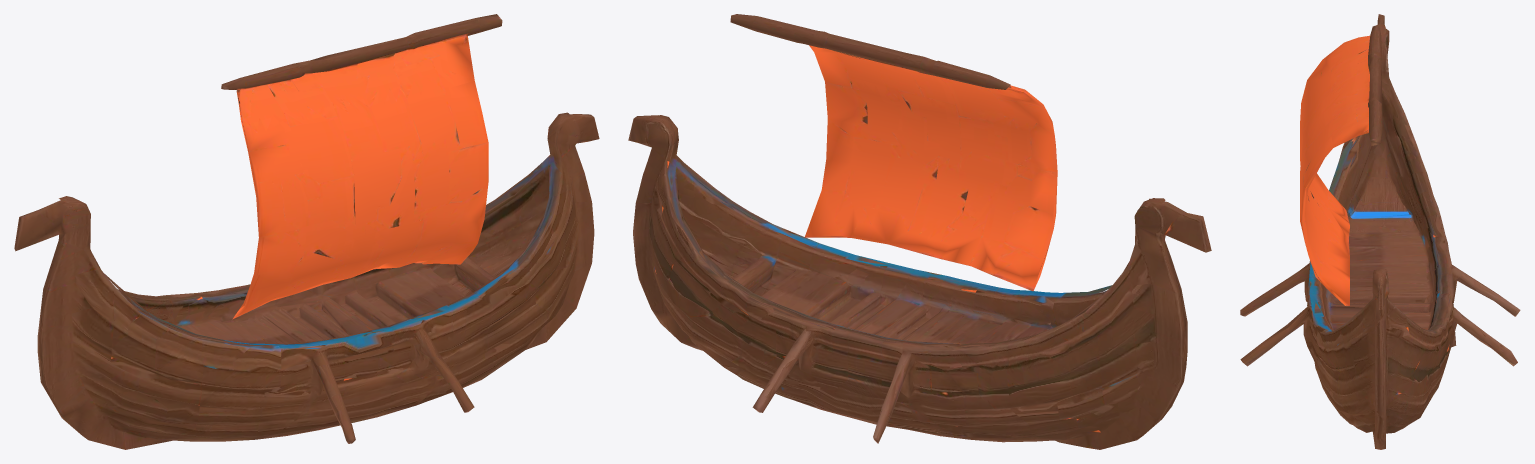
The model's file is ship.glb.
3 renders of one model, left to right at view 1: azimuth 30°, elevation 25°; view 2: azimuth 150°, elevation 25°; view 3: azimuth 270°, elevation 25°, orthographic. The views are drawn at different scales.
Visible parts, largest first — view 1: 0; view 2: 0; view 3: 0.
Part boxes in pixels (x1,y1,x2,y2): 0: (14,14,599,449); 0: (628,14,1211,449); 0: (1240,14,1520,449).
Bounding box in the file's own units: 1.91 × 1.09 × 0.9198.
1 material, 1 textured.
